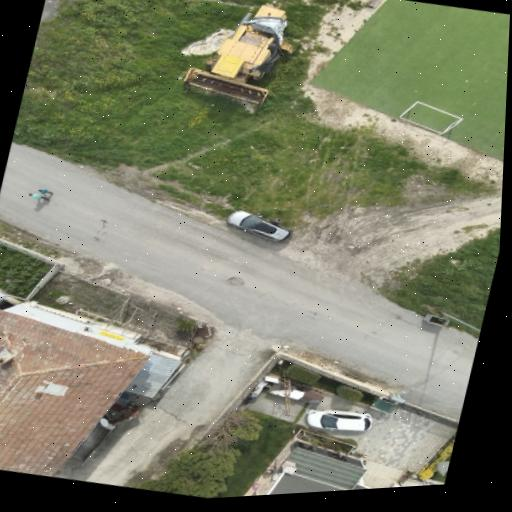car: (227, 209, 291, 242), (306, 408, 371, 430)
harvester: (184, 4, 292, 104)
person: (28, 192, 49, 200), (38, 189, 51, 193)
